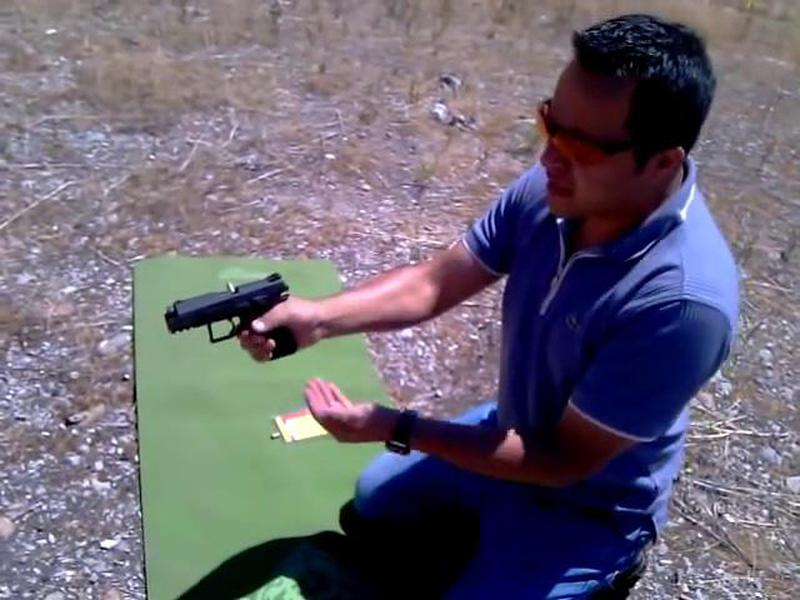Pistola: (158, 257, 315, 379)
